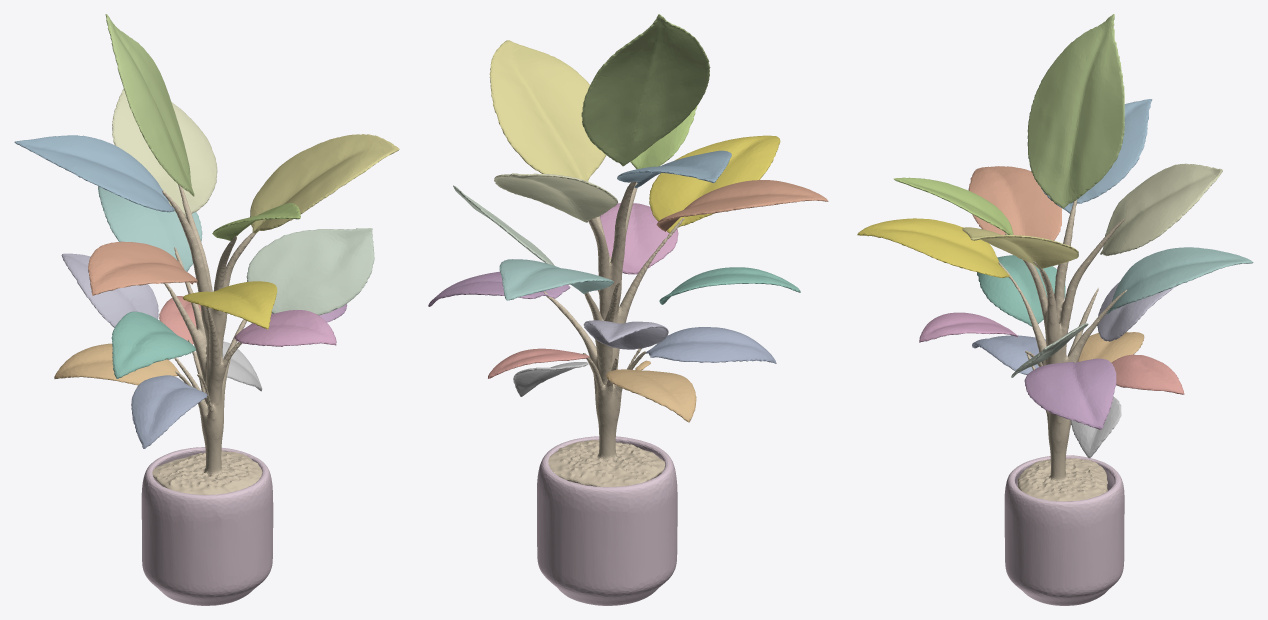
The model's file is plant.glb.
The picture shows the model from 3 angles, left to right: view 1: azimuth 30°, elevation 25°; view 2: azimuth 150°, elevation 25°; view 3: azimuth 270°, elevation 25°; orthographic projection. The views are drawn at different scales.
Visible parts, largest first — view 1: world; view 2: world; view 3: world.
Part boxes in pixels (box(x1,y1,x2,y2)): world: box(14, 14, 399, 605); world: box(428, 14, 828, 605); world: box(857, 14, 1253, 605).
Bounding box in the file's own units: 1.09 × 1.9 × 1.26.
